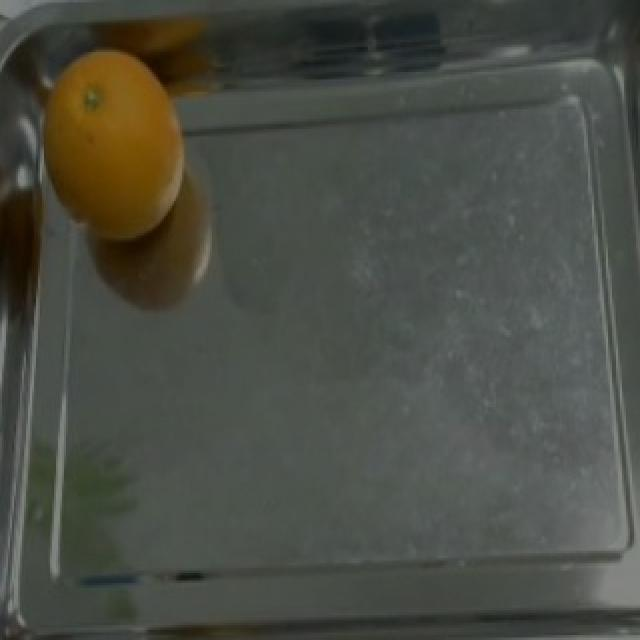Fruit: (6, 25, 204, 260)
